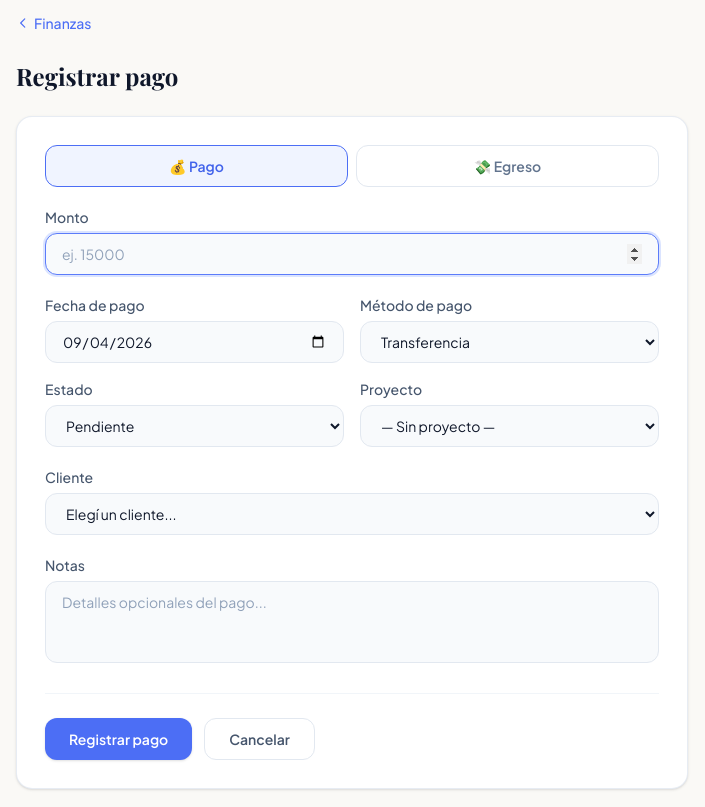
it: FinanceForm — regla de dominio Egreso => Cobrado › al seleccionar Egreso establece el estado en Pagado
Step 1. Click the button "💸 Egreso" → (508, 166), box [356,145,659,187]
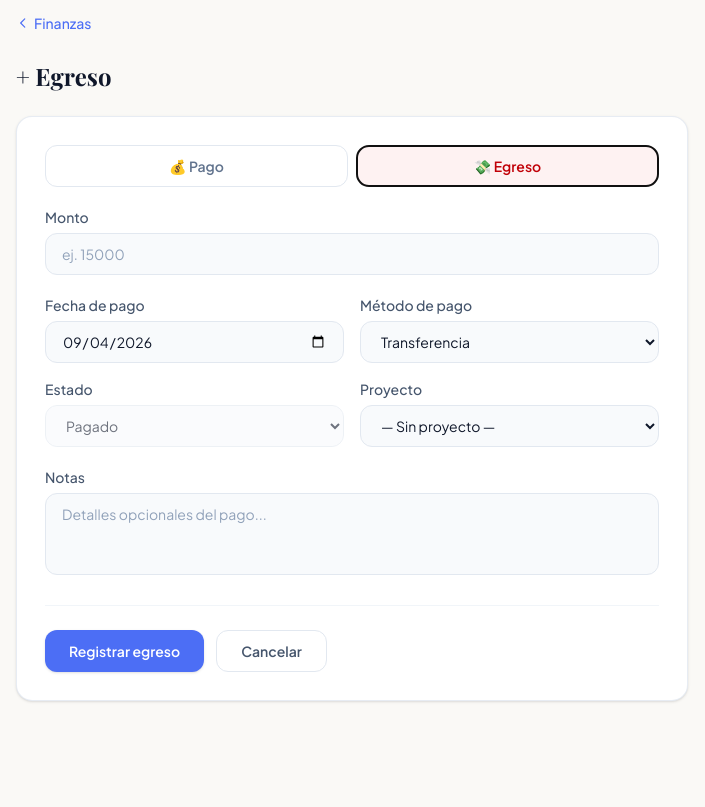
Expected: the dropdown labelled "Estado" shows "Pagado", [45,405,344,447]
